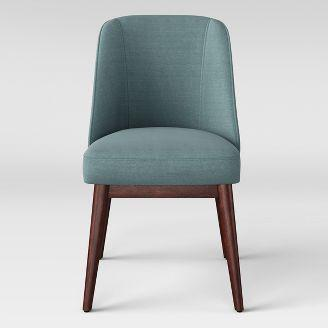chair: (77, 10, 262, 315)
